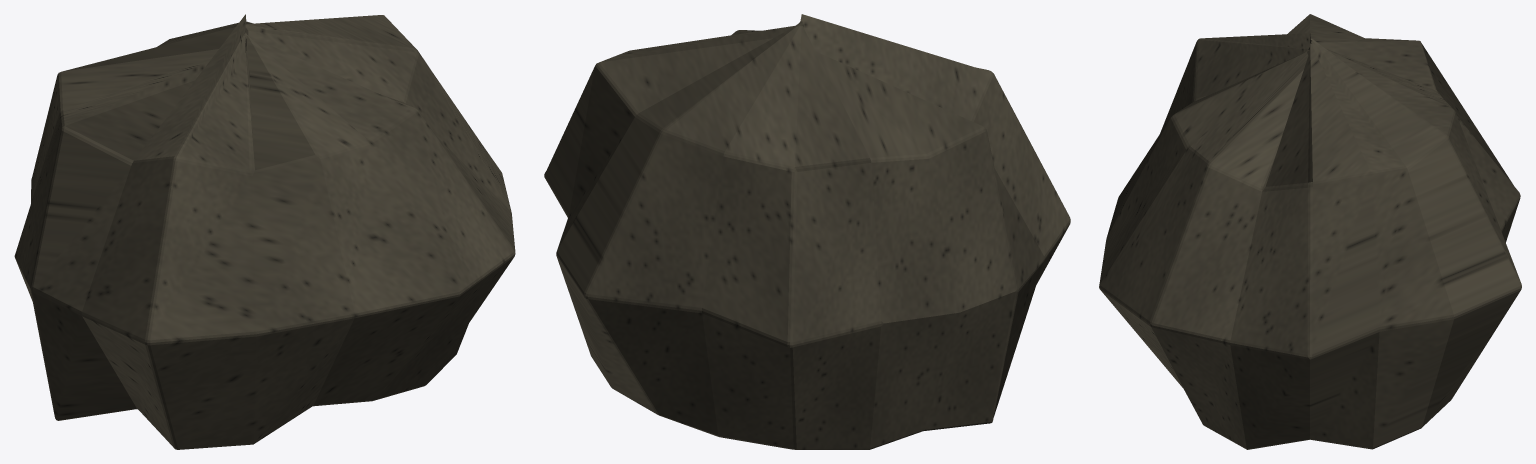
The model's file is PROP-25FFB21EAFCE_lod0.glb.
3 renders of one model, left to right at view 1: azimuth 30°, elevation 25°; view 2: azimuth 150°, elevation 25°; view 3: azimuth 270°, elevation 25°, orthographic. The views are drawn at different scales.
Parts seen in each view (by area): view 1: rock.003; view 2: rock.003; view 3: rock.003.
Boxes of the visible parts, x1,y1,x2,y2 form: rock.003: (14, 14, 515, 449); rock.003: (544, 14, 1070, 449); rock.003: (1099, 14, 1521, 449).
Bounding box in the file's own units: 1.04 × 0.76 × 0.8632.
1 material, 1 textured.
